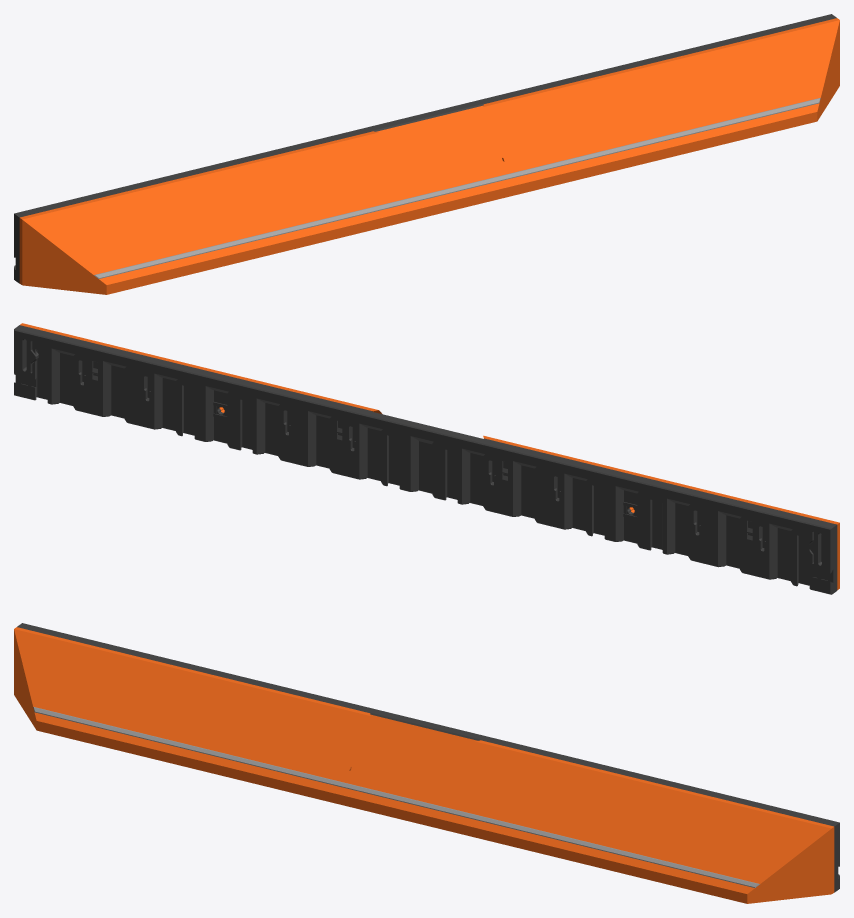
The model's file is Faceplate_ClassicPro_4W-05H.lib.glb.
3 views of the same model, one above another, from view 1: azimuth 30°, elevation 25°; view 2: azimuth 150°, elevation 25°; view 3: azimuth 330°, elevation 25° (orthographic).
Parts seen in each view (by area): view 1: Faceplate_ClassicPro_4W-05H; view 2: Faceplate_ClassicPro_4W-05H; view 3: Faceplate_ClassicPro_4W-05H.
Boxes of the visible parts, box(x1,y1,x2,y2) form: Faceplate_ClassicPro_4W-05H: box(14, 14, 839, 294); Faceplate_ClassicPro_4W-05H: box(14, 323, 839, 594); Faceplate_ClassicPro_4W-05H: box(14, 623, 839, 903).
Size of the model in its own units: 351 by 27.17 by 29.48.
